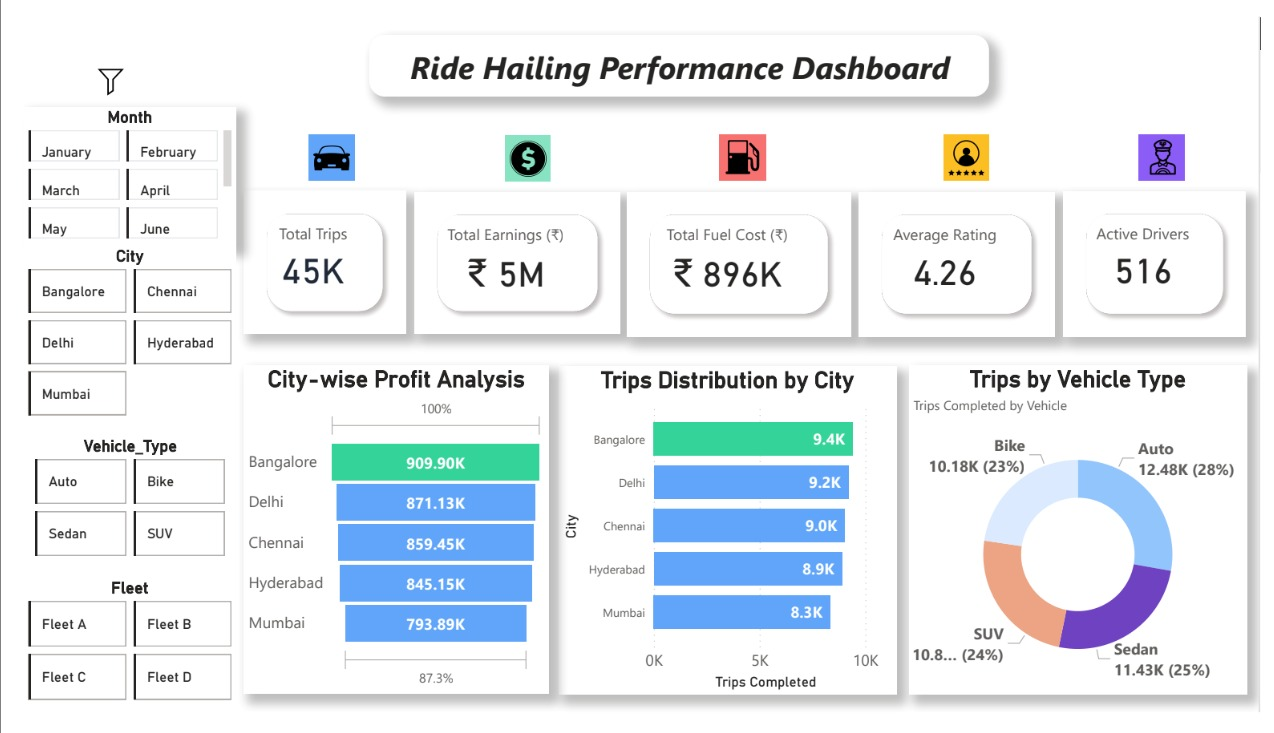

This screenshot's page, from the dashboard's own definition file:
{"tool":"powerbi","page":{"name":"Performance Overview","canvas":[1280,720],"ordinal":0},"visuals":[{"type":"cardVisual","fields":{"Data":["Sum(Trip_Data.Trips_Completed)"]},"box":[228.1,180.3,168,148],"z":0},{"type":"cardVisual","fields":{"Data":["Sum(Trip_Data.Earnings_INR)"]},"box":[405.1,181.4,212.6,146.9],"z":1000},{"type":"cardVisual","fields":{"Data":["Sum(Trip_Data.Fuel_Cost_INR)"]},"box":[625.4,181.4,231.5,149.1],"z":2000},{"type":"cardVisual","fields":{"Data":["Avg(Trip_Data.Driver_Rating)"]},"box":[864.7,181.4,203.6,149.1],"z":3000},{"type":"cardVisual","fields":{"Data":["Driver_Master.Active Dtivers"]},"box":[1077.2,180.3,189.2,150.2],"z":4000},{"type":"textbox","box":[358.3,17.8,642.1,64.5],"z":5000},{"type":"clusteredBarChart","title":"Trips Distribution by City","fields":{"Category":["Trip_Data.City"],"Y":["Sum(Trip_Data.Trips_Completed)"]},"box":[554.2,361.7,349.4,340.5],"z":6000},{"type":"donutChart","title":"Trips by Vehicle Type","fields":{"Category":["Trip_Data.Vehicle_Type"],"Y":["Sum(Trip_Data.Trips_Completed)"]},"box":[916.9,360.7,350,341.6],"z":7000},{"type":"advancedSlicerVisual","fields":{"Values":["Trip_Data.Date.Variation.Date Hierarchy.Month"]},"box":[0,93.5,220.3,143.6],"z":8000},{"type":"funnel","title":"City-wise Profit Analysis","fields":{"Category":["Trip_Data.City"],"Y":["Trip_Data.Profit"]},"box":[227.7,360.7,316.4,340.4],"z":9000},{"type":"advancedSlicerVisual","fields":{"Values":["Trip_Data.City"]},"box":[0,237.1,220,181.4],"z":10000},{"type":"advancedSlicerVisual","fields":{"Values":["Trip_Data.Vehicle_Type"]},"box":[7.1,434.3,207.1,130],"z":11000},{"type":"advancedSlicerVisual","fields":{"Values":["Trip_Data.Fleet"]},"box":[0,581.4,220,131.4],"z":12000},{"type":"image","box":[294.9,121.3,47.9,47.9],"z":13000},{"type":"image","box":[498.5,122.4,47.9,47.9],"z":14000},{"type":"image","box":[720,121.3,49,47.9],"z":15000},{"type":"image","box":[952.6,121.3,47.9,47.9],"z":16000},{"type":"image","box":[1155.1,121.3,47.9,47.9],"z":17000},{"type":"image","box":[70.1,41.2,40.1,52.3],"z":18000}]}

Visuals, with their boxes in screenshot pixels (x1, y1, x2, y2), scaled from the page's 1280x720 canvas onto the 1274x733 screenshot:
cardVisual - Sum(Trip_Data.Trips_Completed): 227/184/394/334
cardVisual - Sum(Trip_Data.Earnings_INR): 403/185/615/334
cardVisual - Sum(Trip_Data.Fuel_Cost_INR): 622/185/853/336
cardVisual - Avg(Trip_Data.Driver_Rating): 861/185/1063/336
cardVisual - Driver_Master.Active Dtivers: 1072/184/1260/336
textbox: 357/18/996/84
"Trips Distribution by City" clusteredBarChart: 552/368/899/715
"Trips by Vehicle Type" donutChart: 913/367/1261/715
advancedSlicerVisual - Trip_Data.Date.Variation.Date Hierarchy.Month: 0/95/219/241
"City-wise Profit Analysis" funnel: 227/367/542/714
advancedSlicerVisual - Trip_Data.City: 0/241/219/426
advancedSlicerVisual - Trip_Data.Vehicle_Type: 7/442/213/574
advancedSlicerVisual - Trip_Data.Fleet: 0/592/219/726
image: 294/123/341/172
image: 496/125/544/173
image: 717/123/765/172
image: 948/123/996/172
image: 1150/123/1197/172
image: 70/42/110/95
